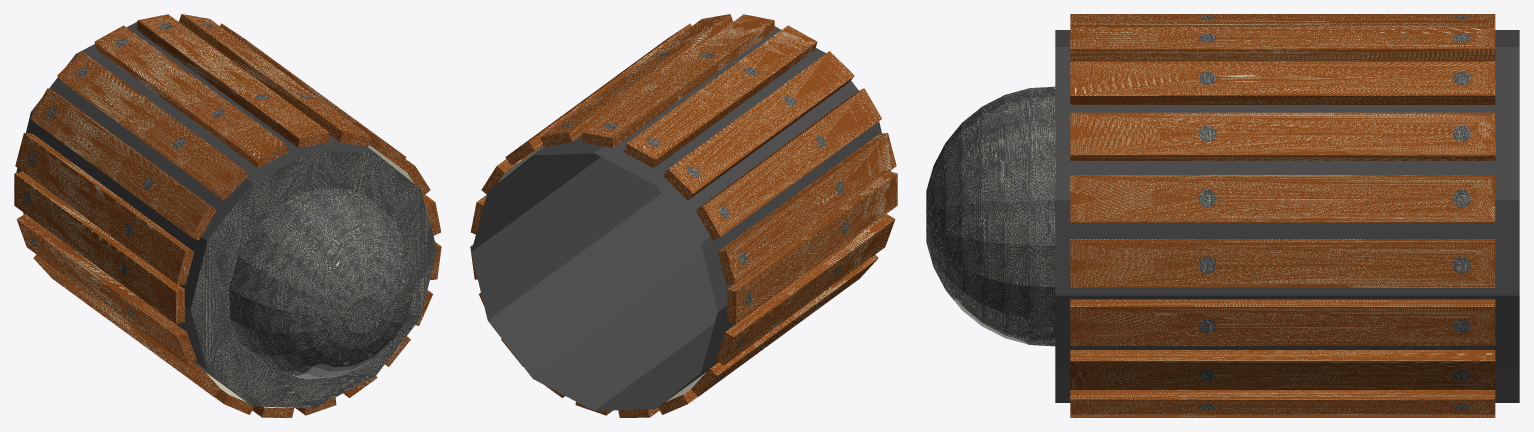
3 views of the same model, side by side, from view 1: azimuth 30°, elevation 25°; view 2: azimuth 150°, elevation 25°; view 3: azimuth 270°, elevation 25° (orthographic). The views are drawn at different scales.
Visible parts, largest first — view 1: dome park trashcan; view 2: dome park trashcan; view 3: dome park trashcan.
Boxes of the visible parts, x1=… form: dome park trashcan: x1=14, y1=14, x2=441, y2=417; dome park trashcan: x1=470, y1=14, x2=897, y2=417; dome park trashcan: x1=926, y1=14, x2=1519, y2=417.
Bounding box in the file's own units: 32.35 × 32.42 × 47.52.
